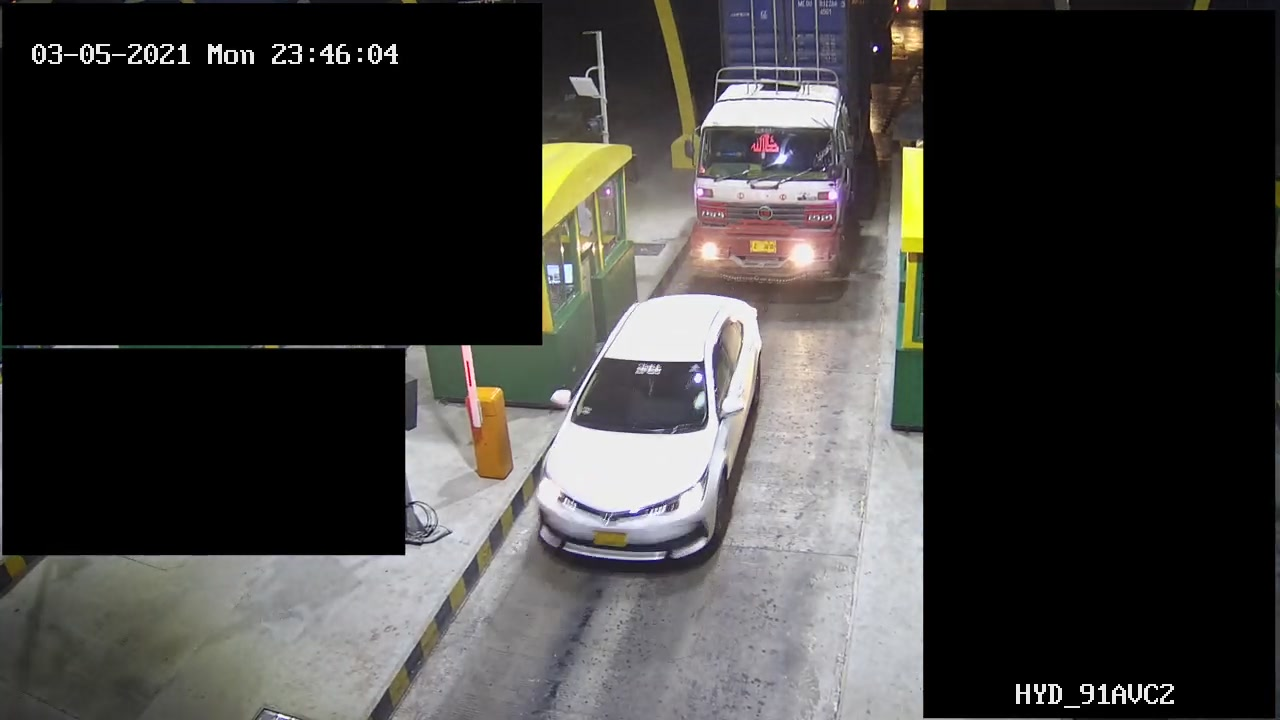F1: (527, 290, 773, 574)
F6: (684, 1, 881, 284)
